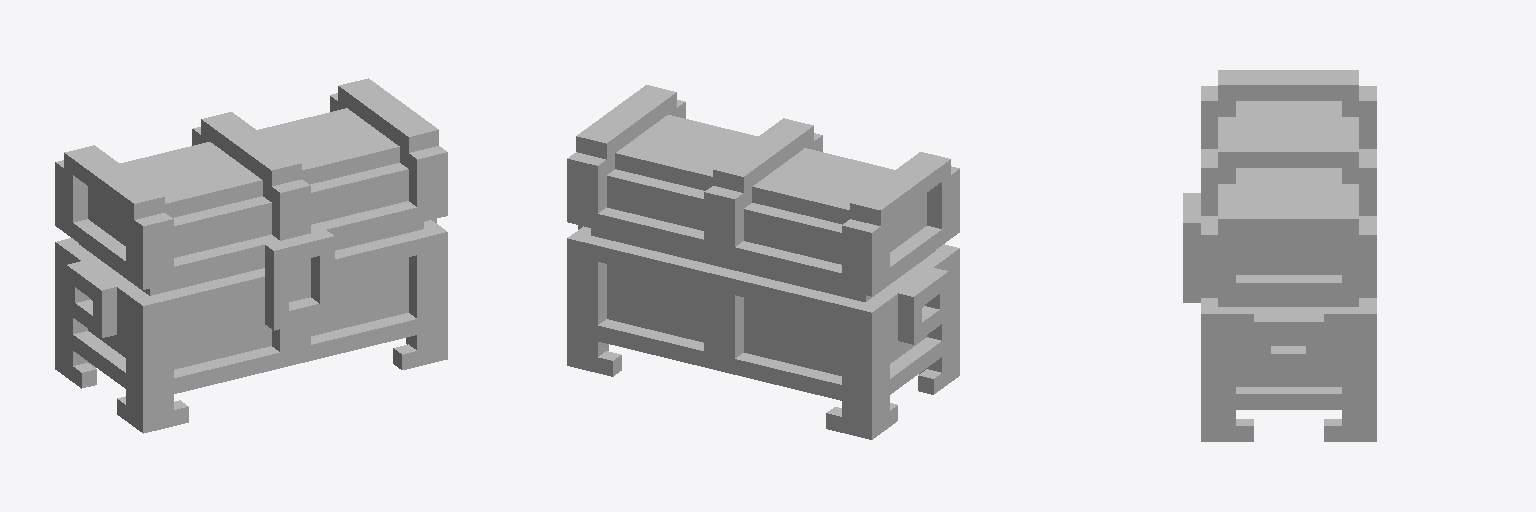
The model's file is chest.obj.
3 views of the same model, side by side, from view 1: azimuth 30°, elevation 25°; view 2: azimuth 150°, elevation 25°; view 3: azimuth 270°, elevation 25° (orthographic).
Parts seen in each view (by area): view 1: object 1; view 2: object 1; view 3: object 1.
Boxes of the visible parts, <box> form: object 1: <box>55,78,447,433</box>; object 1: <box>567,85,959,439</box>; object 1: <box>1183,70,1376,441</box>.
Bounding box in the file's own units: 2.2 × 1.4 × 1.1.